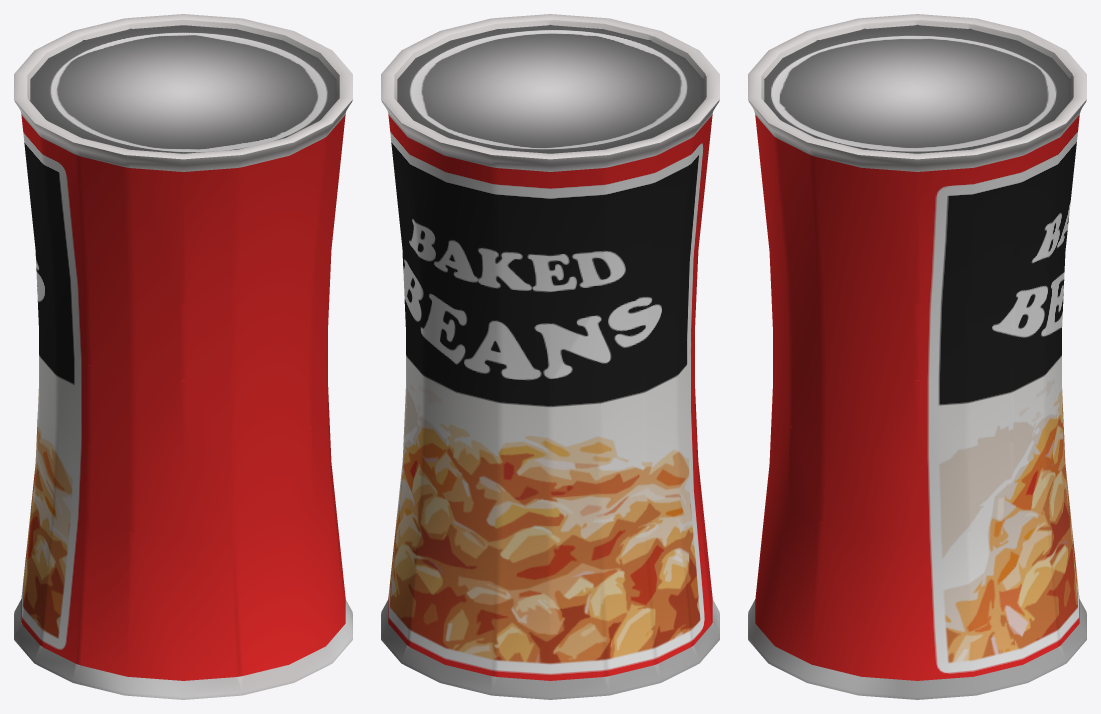
The model's file is food can - baked beans.fbx.
3 views of the same model, side by side, from view 1: azimuth 30°, elevation 25°; view 2: azimuth 150°, elevation 25°; view 3: azimuth 270°, elevation 25° (orthographic).
Visible parts, largest first — view 1: food can baked beans; view 2: food can baked beans; view 3: food can baked beans.
Boxes of the visible parts, left/top/right/bottom form: food can baked beans: left=14, top=14, right=352, bottom=699; food can baked beans: left=381, top=14, right=719, bottom=699; food can baked beans: left=748, top=14, right=1086, bottom=699.
Bounding box in the file's own units: 15.01 × 26.1 × 14.78.
